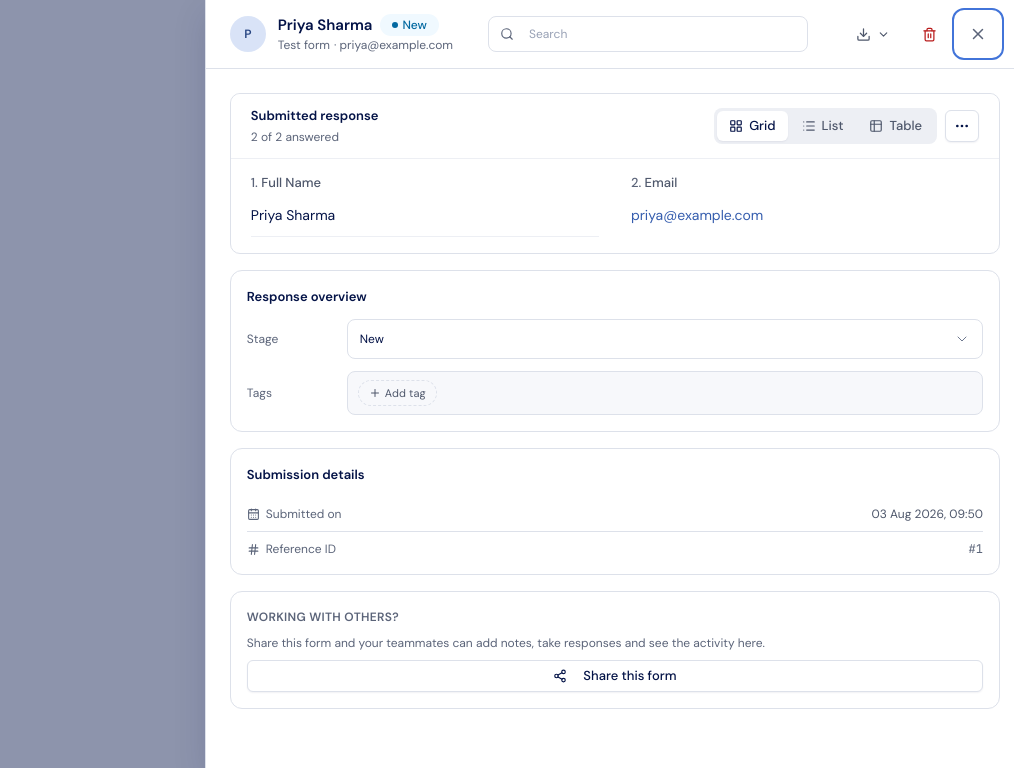
ResponseDrawer › download format › Escape closes the menu without closing the drawer or downloading
Expected: the heading "Submitted response" is shown, top-left (251, 106), bottom-right (378, 126)
Click the button named "Download response" at (873, 34), box top-left (843, 18), bottom-right (903, 50)
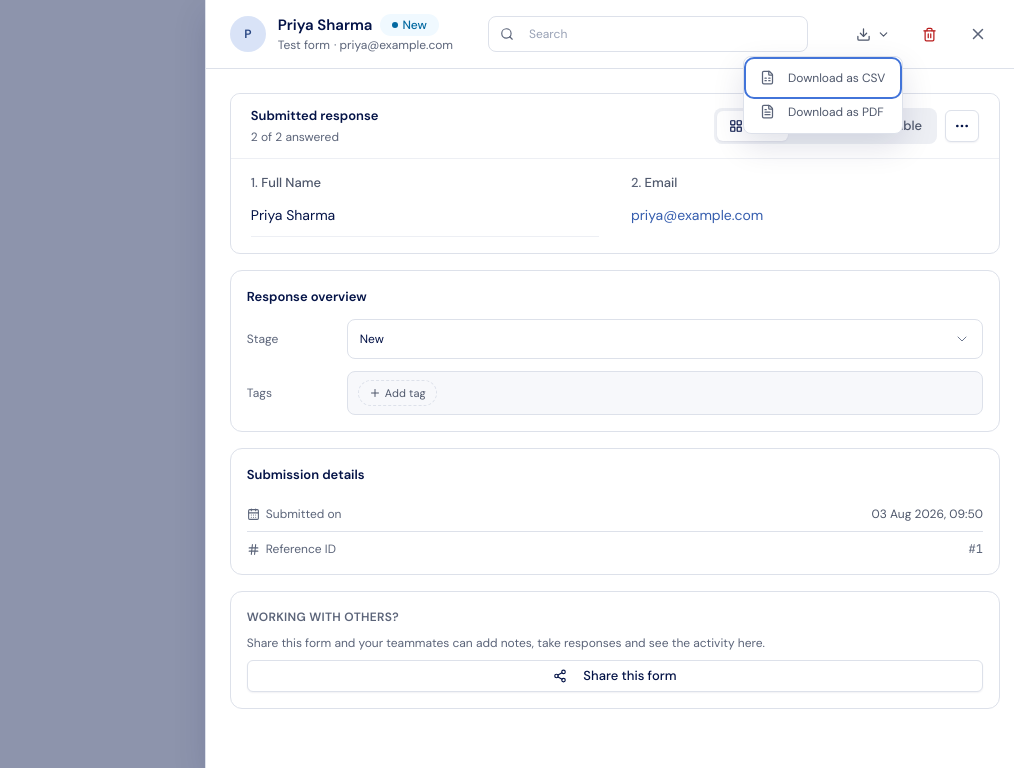
Now the menu is shown, box top-left (743, 56), bottom-right (903, 134)
Press Escape
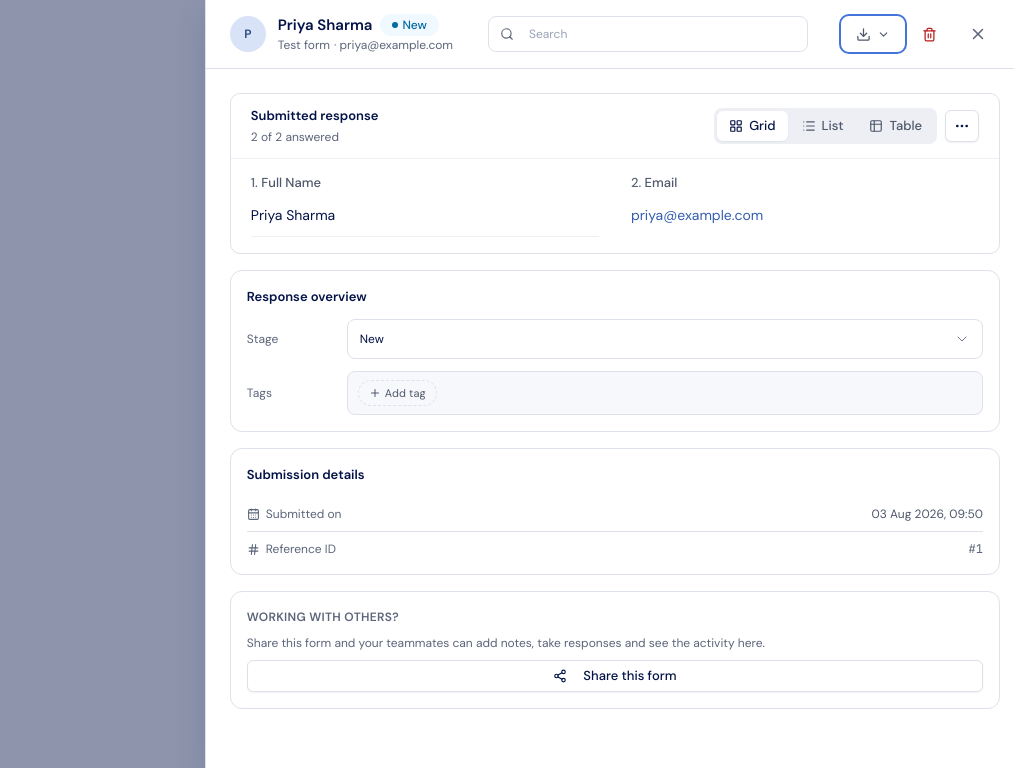
Now the menu is gone
